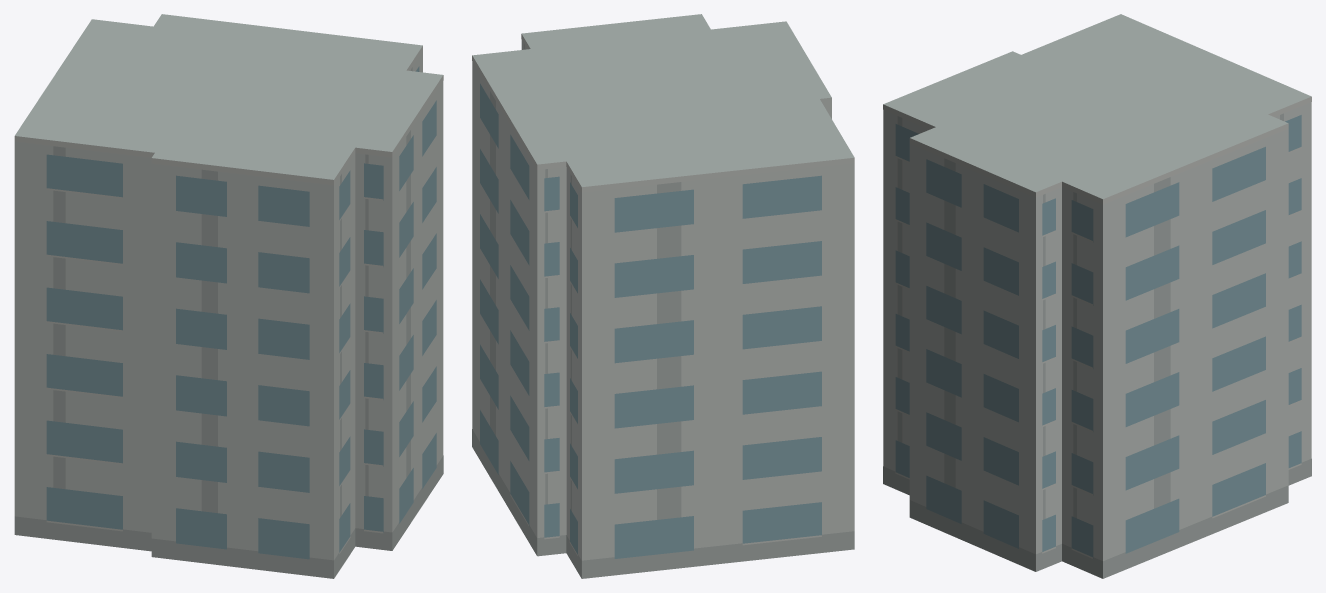
The model's file is survey-upis-33026211.glb.
3 views of the same model, side by side, from view 1: azimuth 30°, elevation 25°; view 2: azimuth 150°, elevation 25°; view 3: azimuth 270°, elevation 25° (orthographic). The views are drawn at different scales.
Visible parts, largest first — view 1: survey-upis-33026211.tmp; view 2: survey-upis-33026211.tmp; view 3: survey-upis-33026211.tmp.
Part boxes in pixels (x1,y1,x2,y2): survey-upis-33026211.tmp: [14, 14, 443, 578]; survey-upis-33026211.tmp: [472, 14, 854, 578]; survey-upis-33026211.tmp: [883, 14, 1311, 578].
Size of the model in its own units: 18.01 by 17.2 by 17.61.
